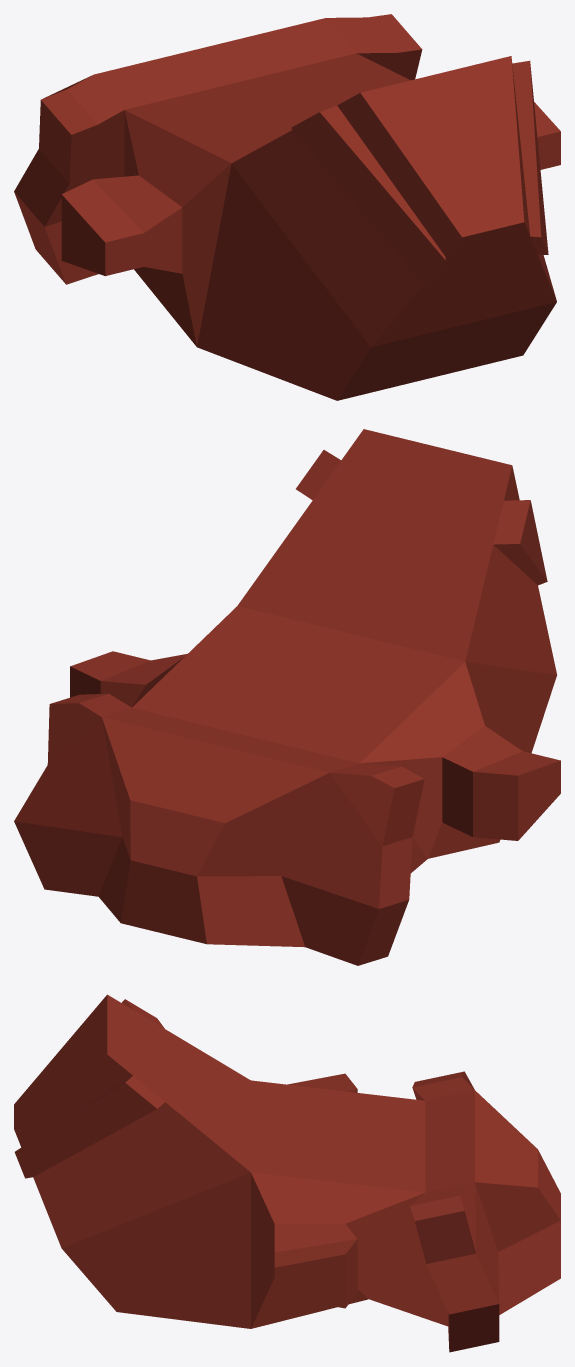
Rendered from MechHead02.FBX.
3 renders of one model, top to bottom at view 1: azimuth 30°, elevation 25°; view 2: azimuth 150°, elevation 25°; view 3: azimuth 270°, elevation 25°, orthographic. The views are drawn at different scales.
Parts seen in each view (by area): view 1: MechHead02; view 2: MechHead02; view 3: MechHead02.
Part boxes in pixels (x1,y1,x2,y2): MechHead02: [14, 14, 560, 400]; MechHead02: [14, 429, 560, 965]; MechHead02: [14, 994, 560, 1352].
Size of the model in its own units: 340 by 435 by 232.
